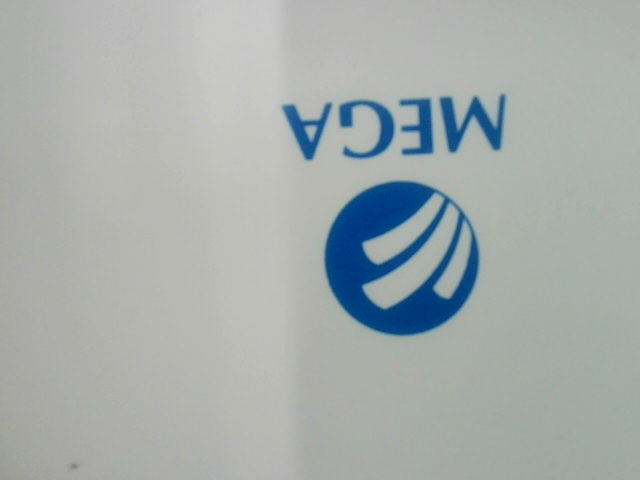AM_ZTEMEGA: (274, 76, 529, 338)
